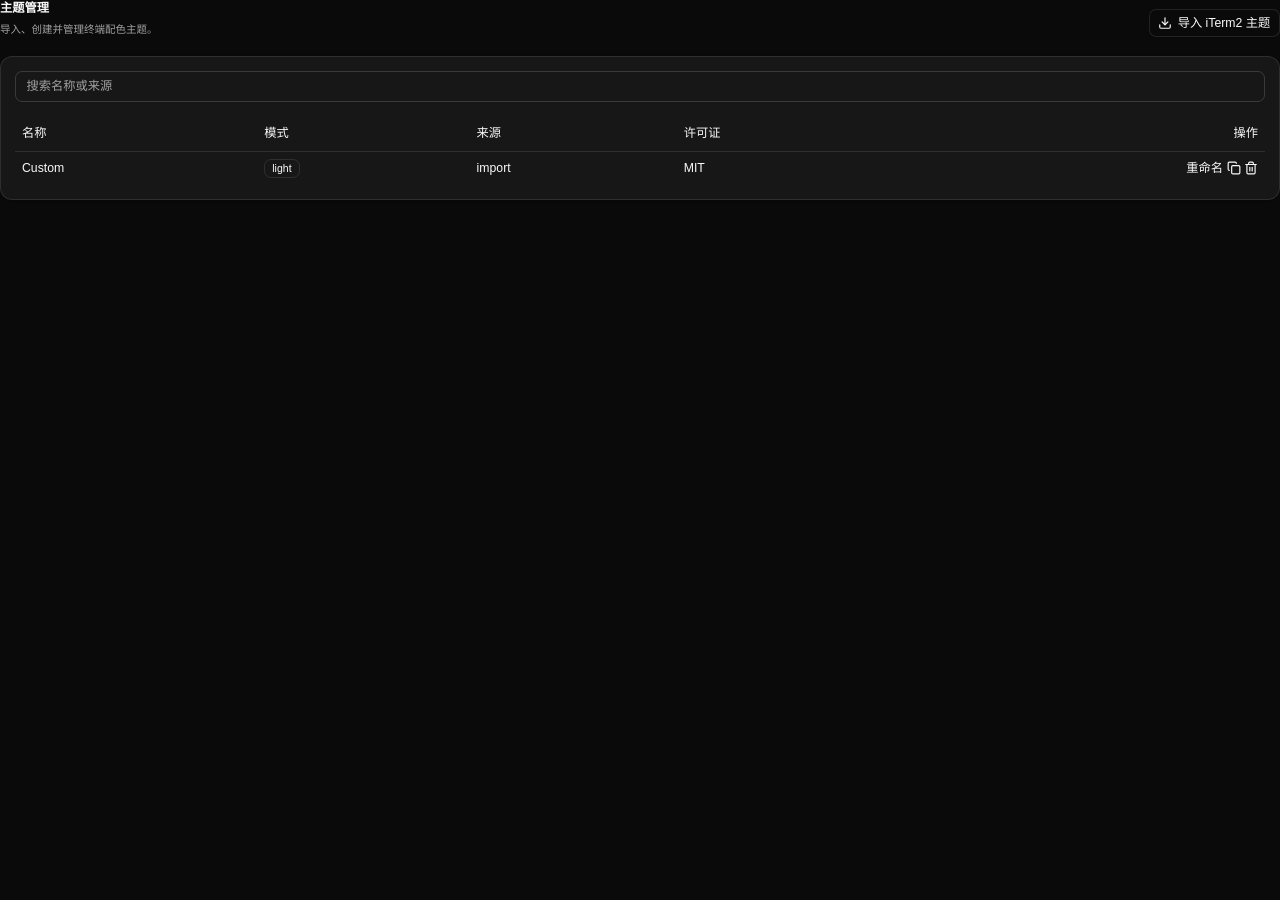
it: ThemeManager › keeps delete confirm open and shows inline failure without toast
The width and height of the screenshot is (1280, 900).
What coordinates should you click on to do the following:
click the button named "删除 Custom"
I would click on:
 (1251, 168)
Its box is [1244,160,1258,177].
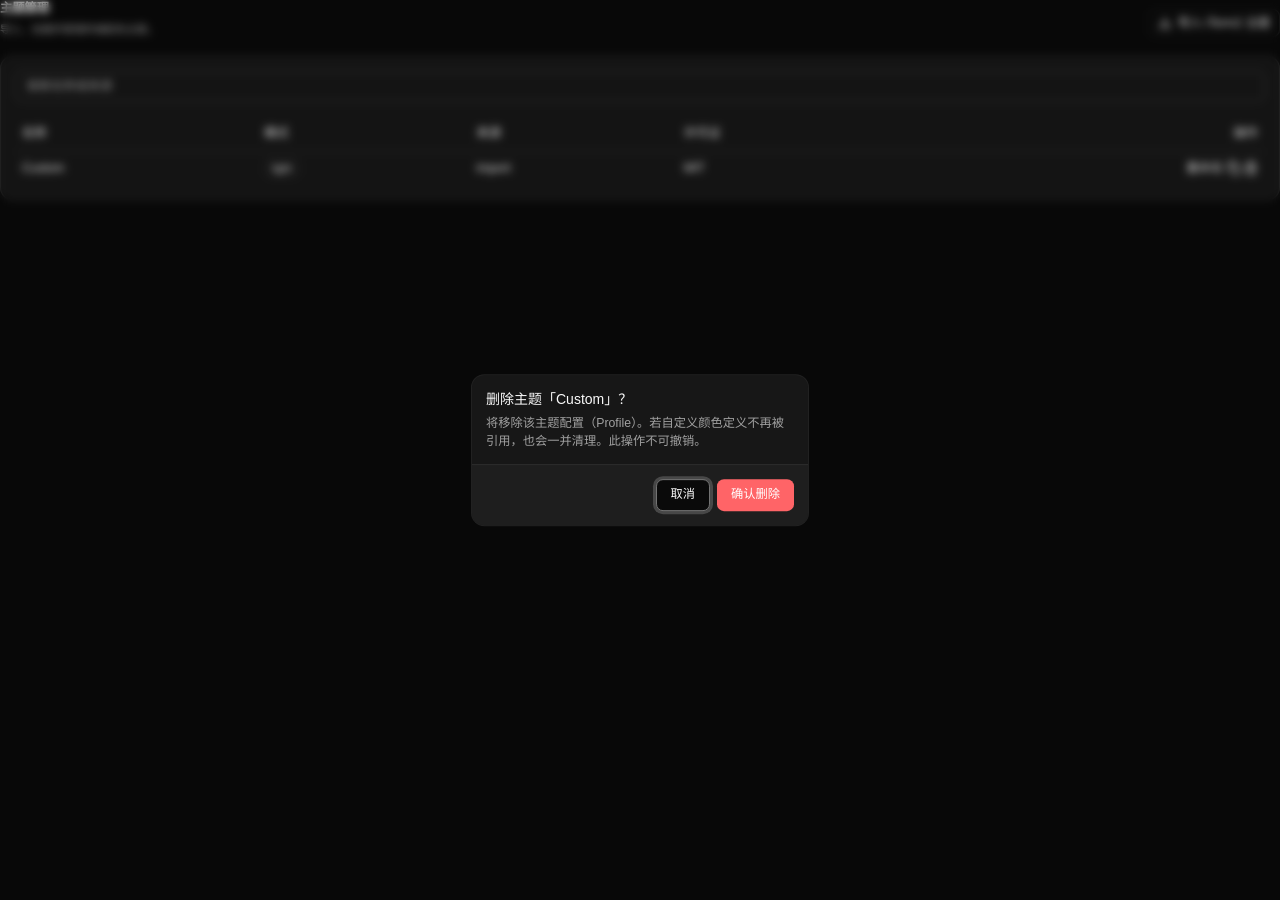
What coordinates should you click on to do the following:
click the button "确认删除"
I would click on:
 (756, 495)
Its box is [717,479,794,511].
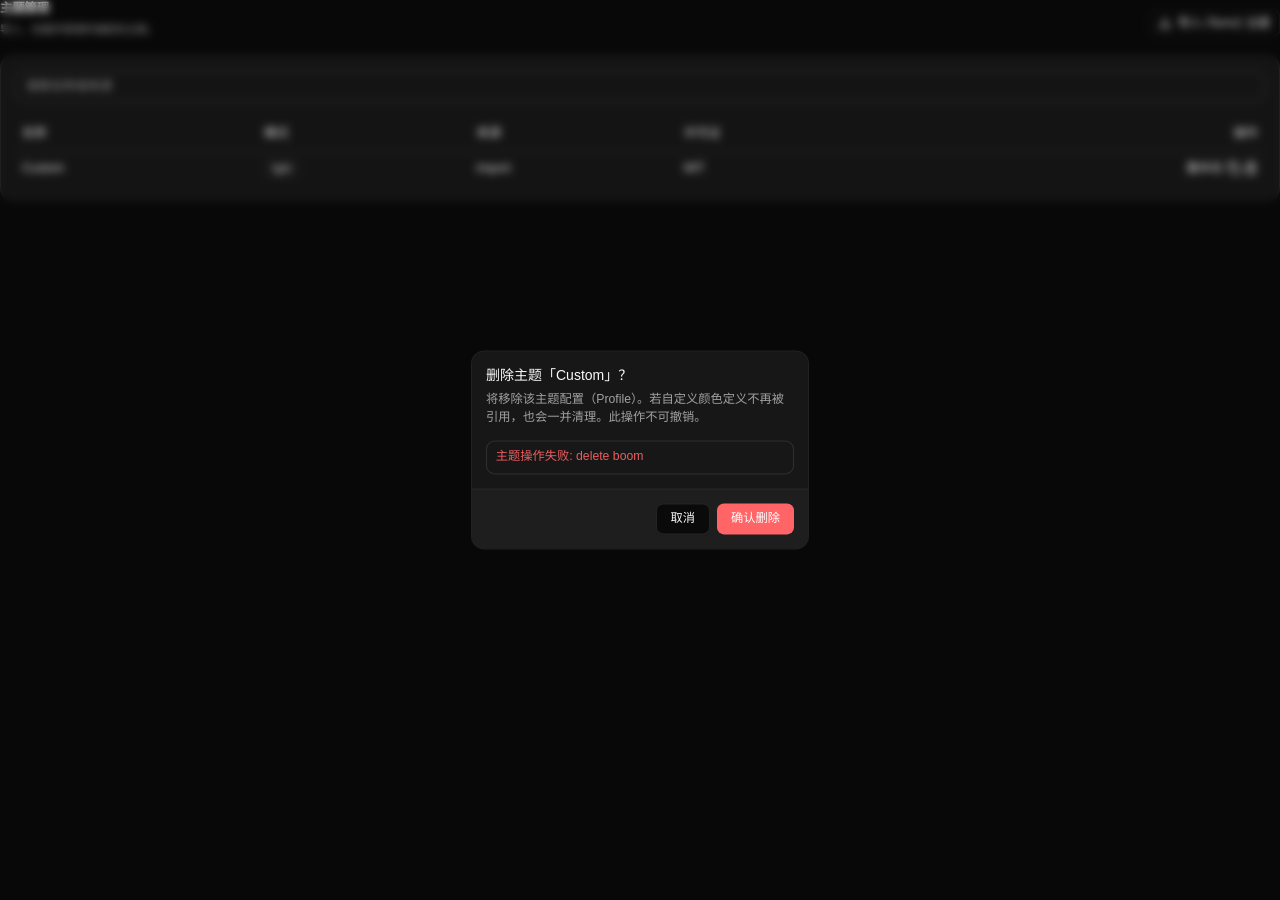
Check: the dialog is shown, box [472,351,808,549]
Check: the text "主题操作失败: delete boom" is shown, box [496,450,644,464]
